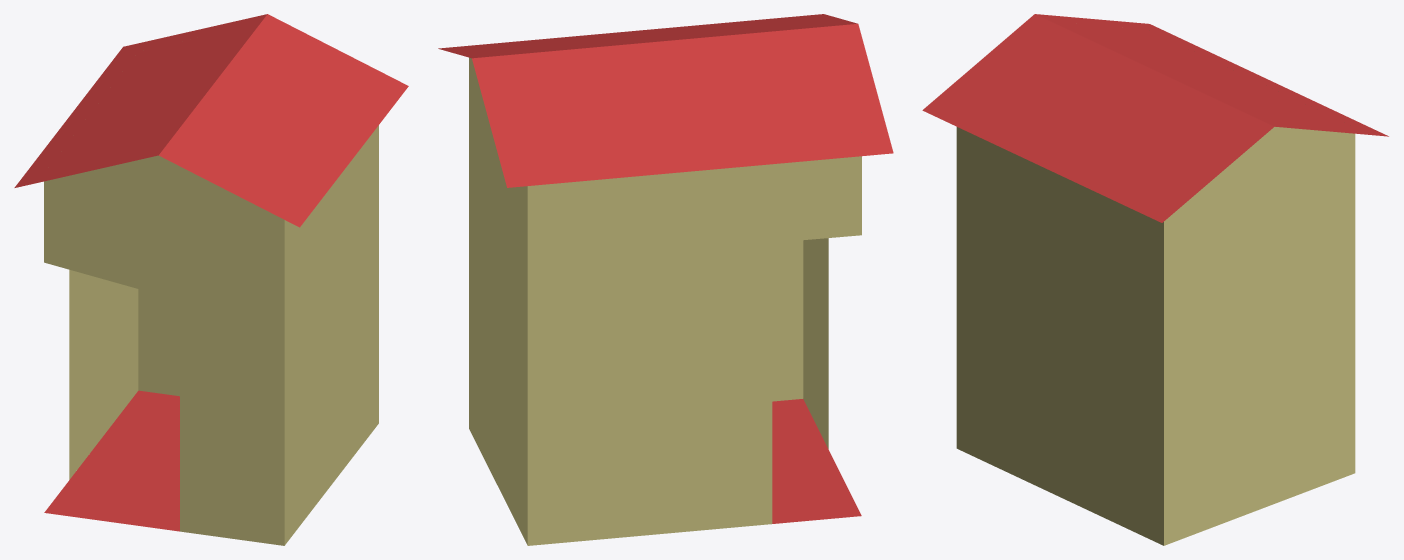
3 views of the same model, side by side, from view 1: azimuth 30°, elevation 25°; view 2: azimuth 150°, elevation 25°; view 3: azimuth 270°, elevation 25° (orthographic). The views are drawn at different scales.
Visible parts, largest first — view 1: group_5, group_3, group_6, group_4; view 2: group_5, group_3, group_4, group_6; view 3: group_5, group_3, group_4.
Boxes of the visible parts, x1,y1,x2,y2 form: group_5: [44, 125, 378, 545]; group_3: [44, 14, 408, 227]; group_6: [44, 390, 179, 531]; group_4: [14, 14, 267, 187]; group_5: [469, 57, 861, 545]; group_3: [438, 14, 891, 187]; group_4: [472, 24, 893, 187]; group_6: [772, 399, 861, 523]; group_5: [956, 127, 1355, 545]; group_3: [922, 14, 1354, 222]; group_4: [1035, 14, 1388, 136].
Bounding box in the file's own units: 14.54 × 14.42 × 13.3.
